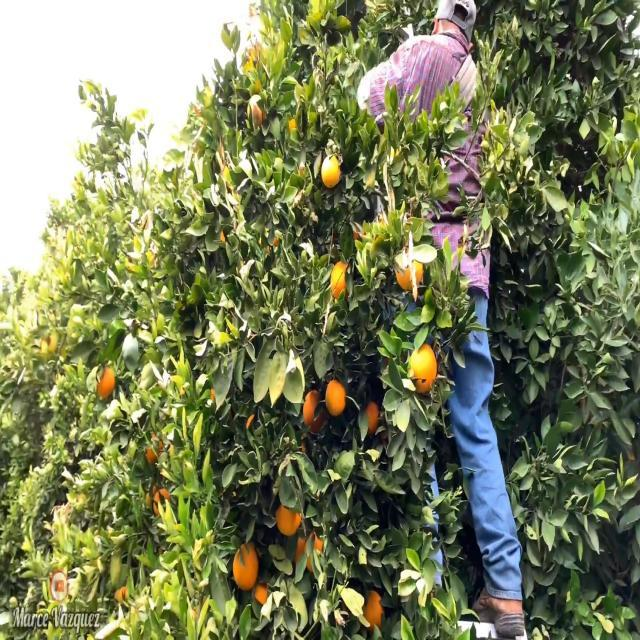Jeruk Sudah Matang: (404, 335, 442, 398), (226, 538, 262, 594), (300, 386, 329, 439), (327, 258, 356, 311), (272, 494, 304, 540), (322, 372, 350, 424), (321, 145, 344, 194), (94, 365, 122, 405)
